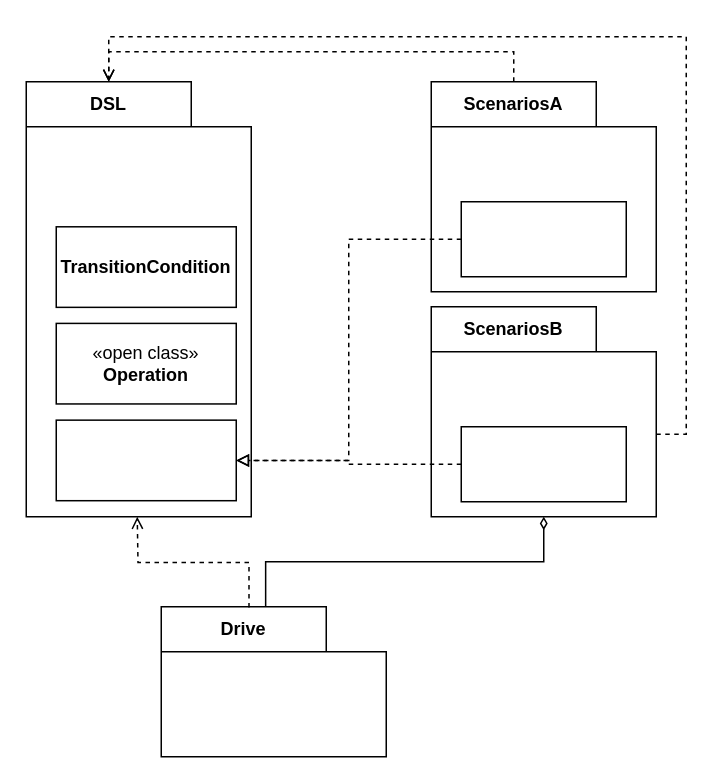
Some shapes in this 725 by 783 pixel diagram are drawn without their labels. Here are the shapes that lost their labels. From the top down, the centre of each, then its label:
At point 543,238: "ScenarioA".
At point 145,460: "«abstract class» Scenario".
At point 543,463: "ScenarioB".
